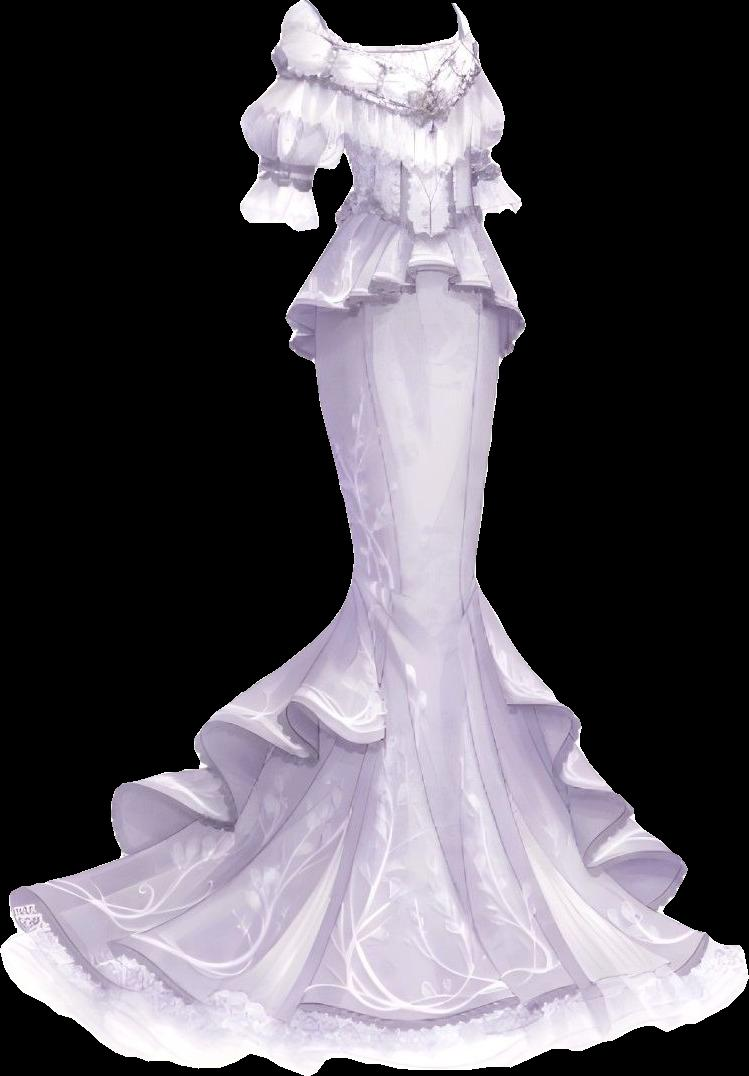Bodice: (343, 39, 480, 240)
Hemline: (3, 898, 716, 1046), (0, 946, 748, 1075), (111, 582, 394, 869), (473, 583, 676, 920), (301, 261, 516, 358)
Neckline: (344, 135, 478, 181), (347, 39, 451, 84), (344, 84, 469, 121)
Skirt: (1, 204, 747, 1075)
Sleeve: (240, 0, 345, 231)
Sleeveline: (304, 0, 351, 93), (274, 72, 347, 96), (257, 162, 315, 180)
Waistline: (337, 197, 484, 248)
